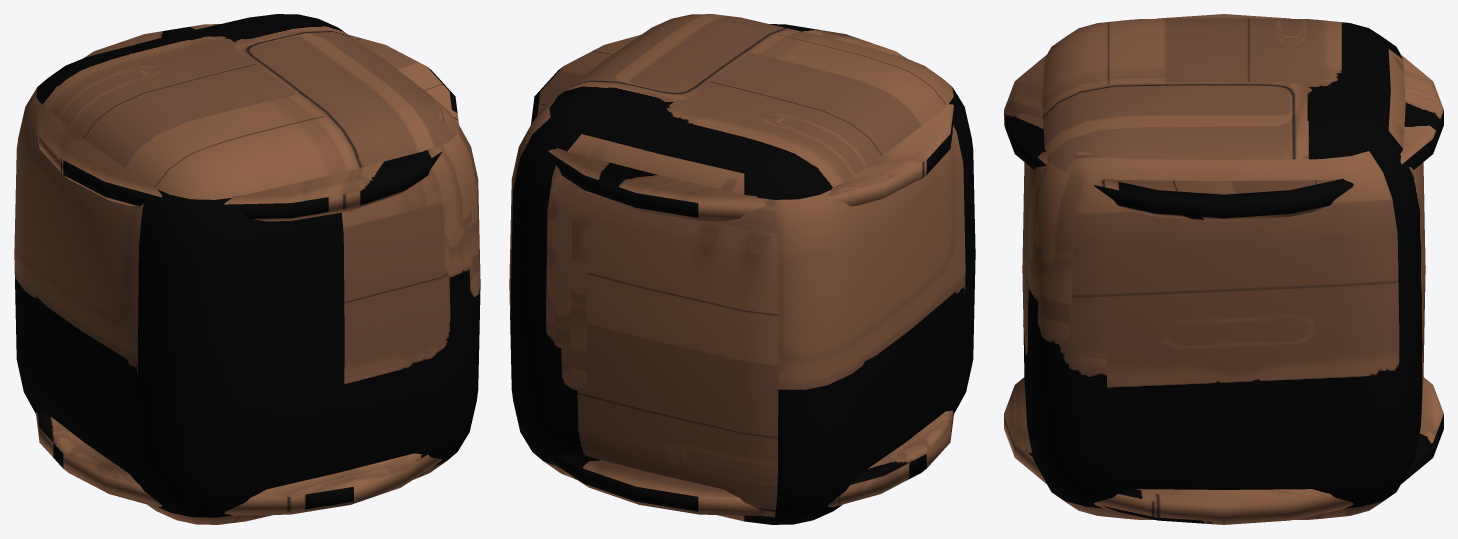
Rendered from Remache_BrazoIzq.fbx.
3 renders of one model, left to right at view 1: azimuth 30°, elevation 25°; view 2: azimuth 150°, elevation 25°; view 3: azimuth 270°, elevation 25°, orthographic. The views are drawn at different scales.
Visible parts, largest first — view 1: Remache_BrazoIzq; view 2: Remache_BrazoIzq; view 3: Remache_BrazoIzq.
Boxes of the visible parts, x1,y1,x2,y2 form: Remache_BrazoIzq: (14, 14, 480, 524); Remache_BrazoIzq: (509, 14, 975, 524); Remache_BrazoIzq: (1004, 14, 1443, 524).
Bounding box in the file's own units: 2.14 × 2.13 × 2.14.
